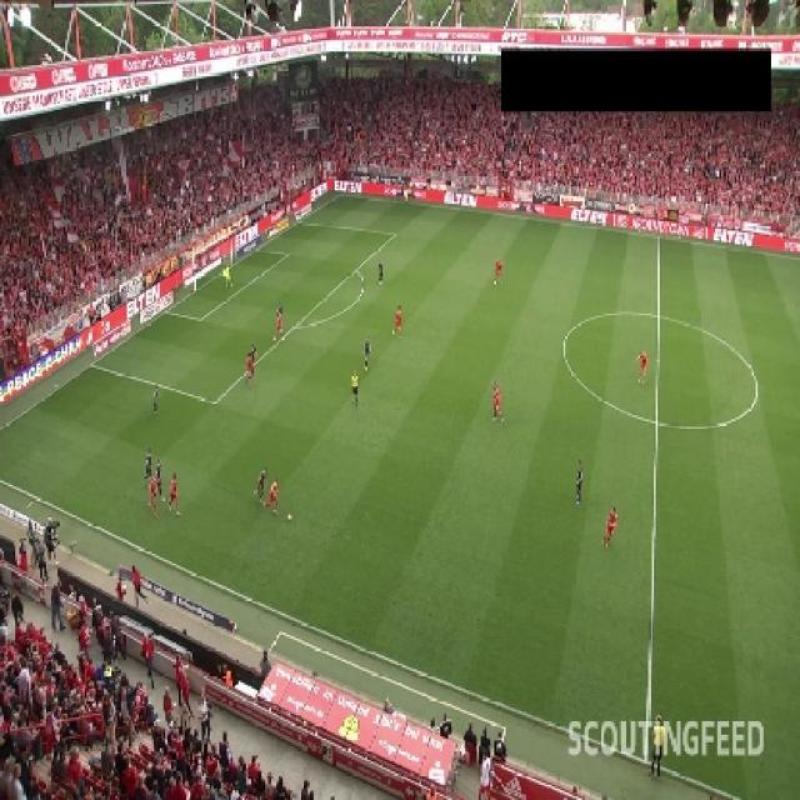1: (330, 187, 351, 203)
10: (346, 258, 364, 277)
11: (285, 316, 304, 338)
12: (204, 390, 225, 415)
13: (648, 227, 672, 251)
14: (648, 301, 672, 327)
15: (643, 404, 672, 436)
16: (638, 752, 652, 770)
2: (292, 214, 308, 230)
3: (249, 243, 266, 256)
4: (160, 304, 174, 320)
5: (81, 353, 101, 377)
7: (280, 244, 298, 262)
8: (190, 306, 210, 330)
9: (386, 224, 404, 243)
c: (550, 332, 578, 362), (746, 371, 768, 409)
